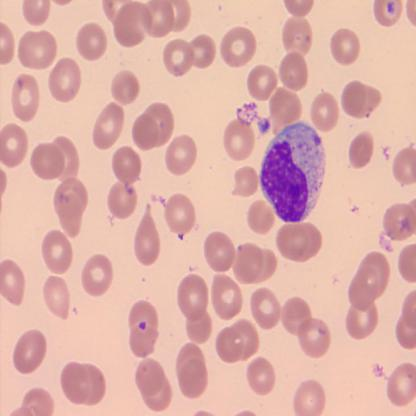Metamyelocyte: (257, 120, 327, 226)
